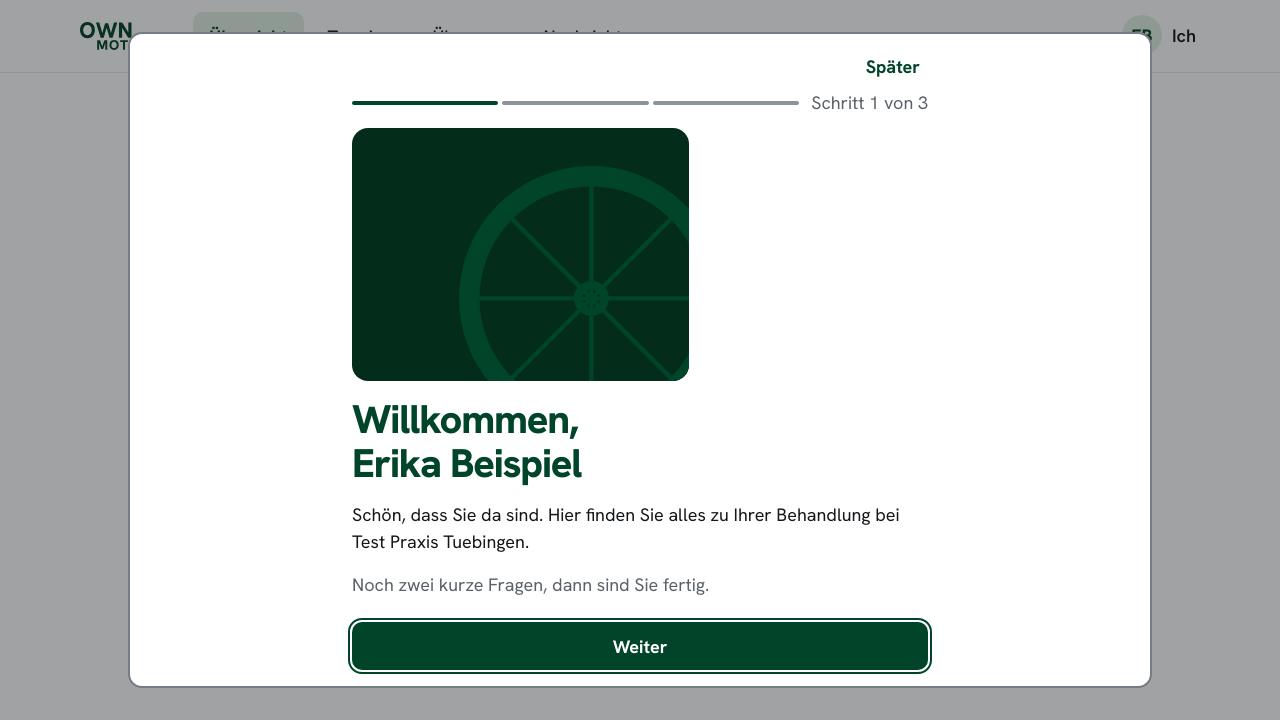
Test: Einstieg: Willkommen (DRP-016) › beendet mit „Später“ und gibt den Tab der Übersicht zurück
Step 1. Click the button "Später" → [893, 66], box [846,42,940,90]
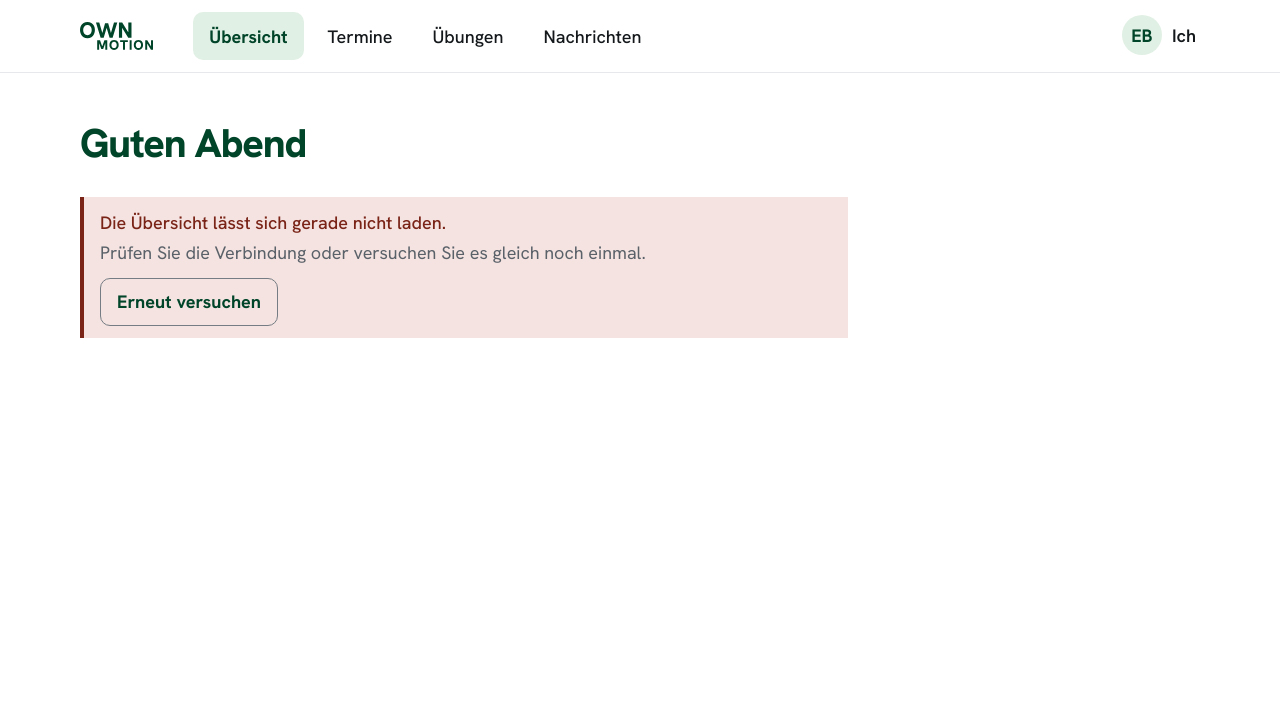
Result: the heading "Guten Abend" is shown at [80,121,306,165]
Result: the dialog is gone
